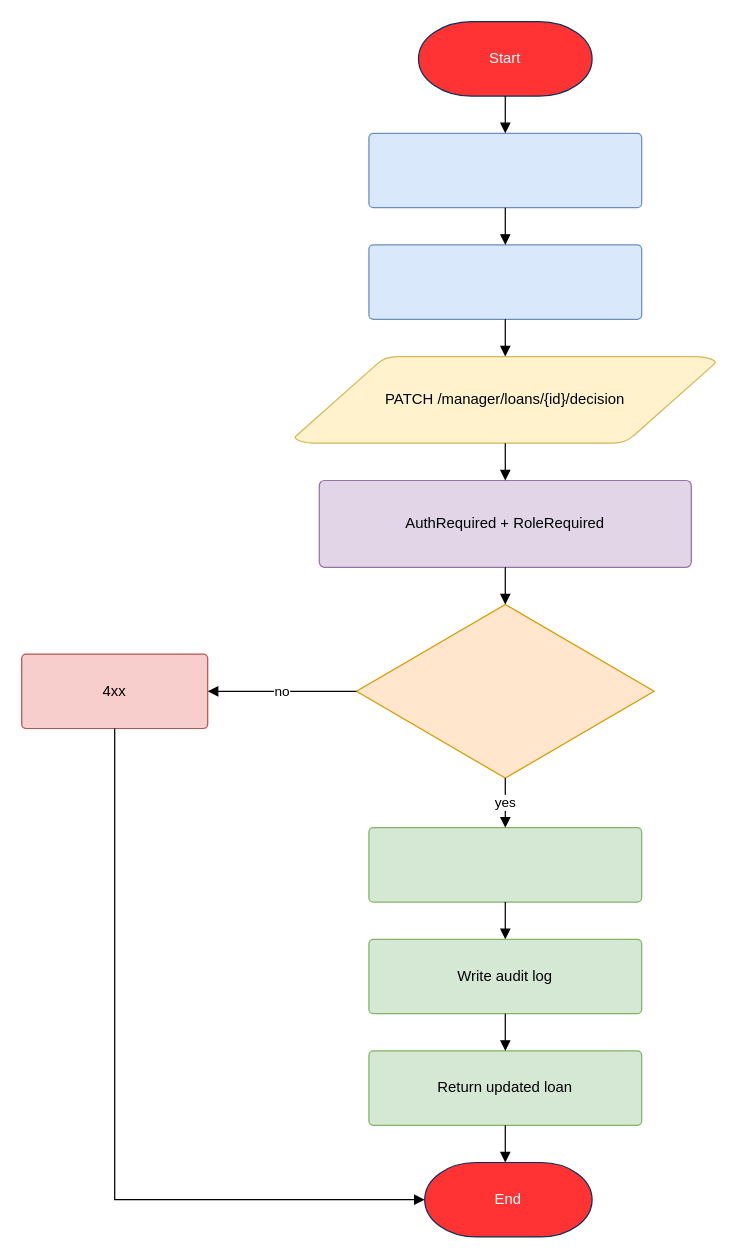
Some shapes in this 738 by 1259 pixel diagram are drawn without their labels. Here are the shapes that lost their labels. From the top down, the box of each, then its label:
(368, 132, 642, 208): Login manager
(368, 244, 642, 319): JWT issued
(355, 603, 654, 778): Loan exists & pending?
(368, 826, 642, 902): Persist decision
